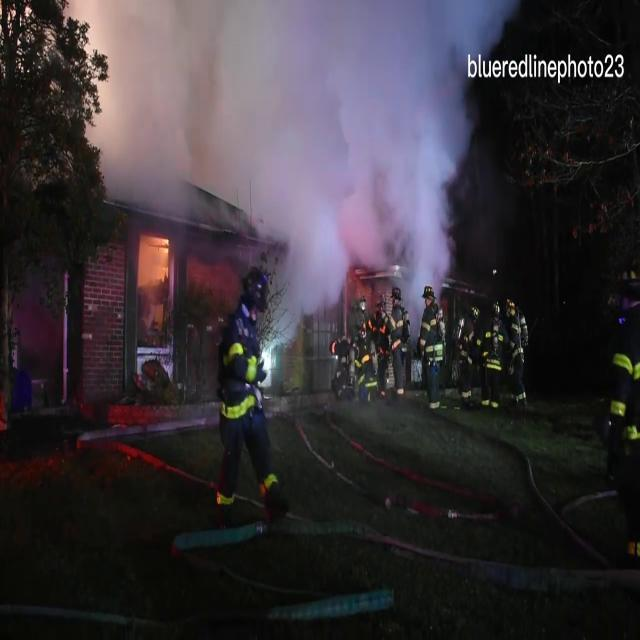Smoke: (93, 0, 490, 269)
